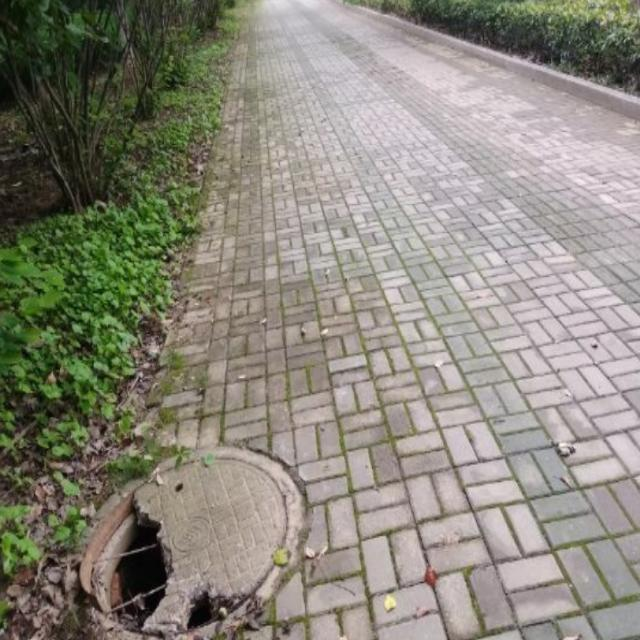Faulty: (72, 441, 314, 640)
